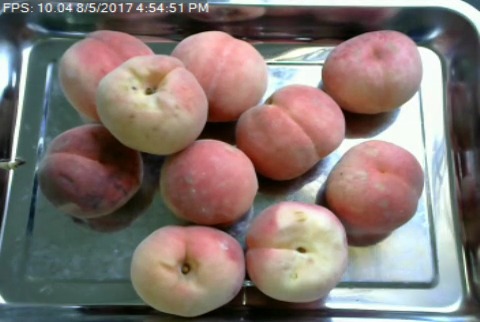Peach: (243, 201, 349, 303), (130, 224, 244, 318), (99, 54, 204, 155), (236, 85, 345, 182), (54, 28, 155, 128), (325, 138, 423, 238), (42, 123, 142, 217), (174, 30, 270, 122), (322, 27, 422, 115), (160, 138, 258, 226)
